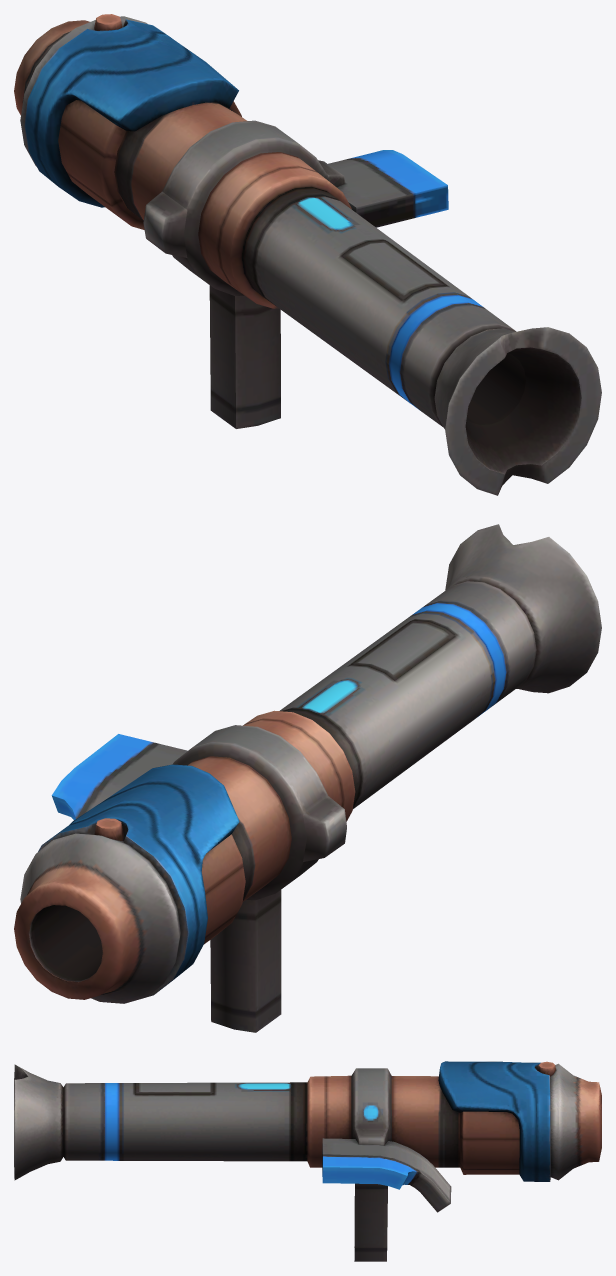
The model's file is Bazooka_Smuggler_TRUE_FBX.fbx.
3 renders of one model, top to bottom at view 1: azimuth 30°, elevation 25°; view 2: azimuth 150°, elevation 25°; view 3: azimuth 270°, elevation 25°, orthographic. The views are drawn at different scales.
Visible parts, largest first — view 1: Bazooka_Smuggler; view 2: Bazooka_Smuggler; view 3: Bazooka_Smuggler.
Boxes of the visible parts, <box> form: Bazooka_Smuggler: <box>14,14,601,495</box>; Bazooka_Smuggler: <box>14,524,601,1032</box>; Bazooka_Smuggler: <box>14,1061,601,1261</box>.
Bounding box in the file's own units: 0.4445 × 1.37 × 0.4889.
